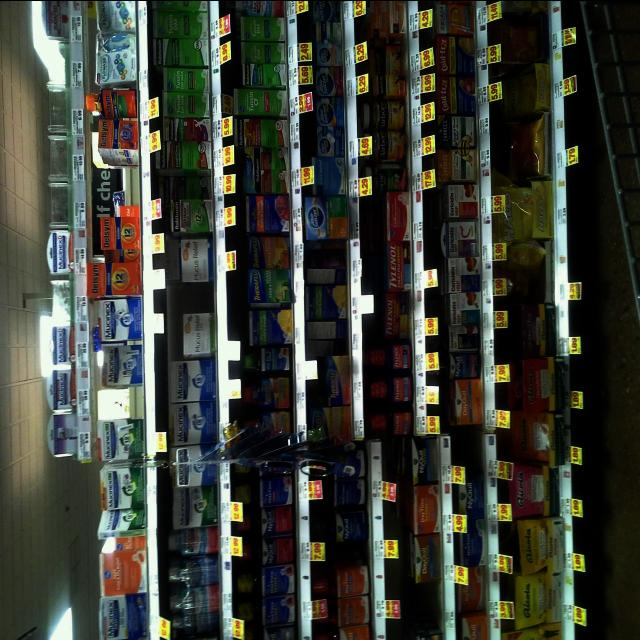empty_space: (180, 274, 212, 310), (405, 589, 439, 619)
